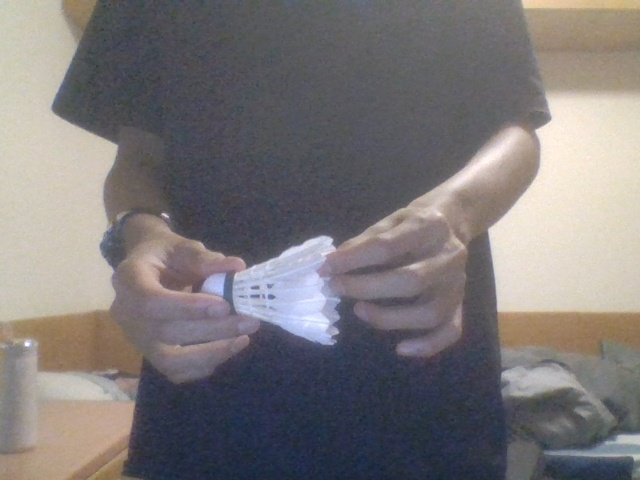human: (53, 1, 553, 480)
shuttle: (200, 235, 338, 346)
